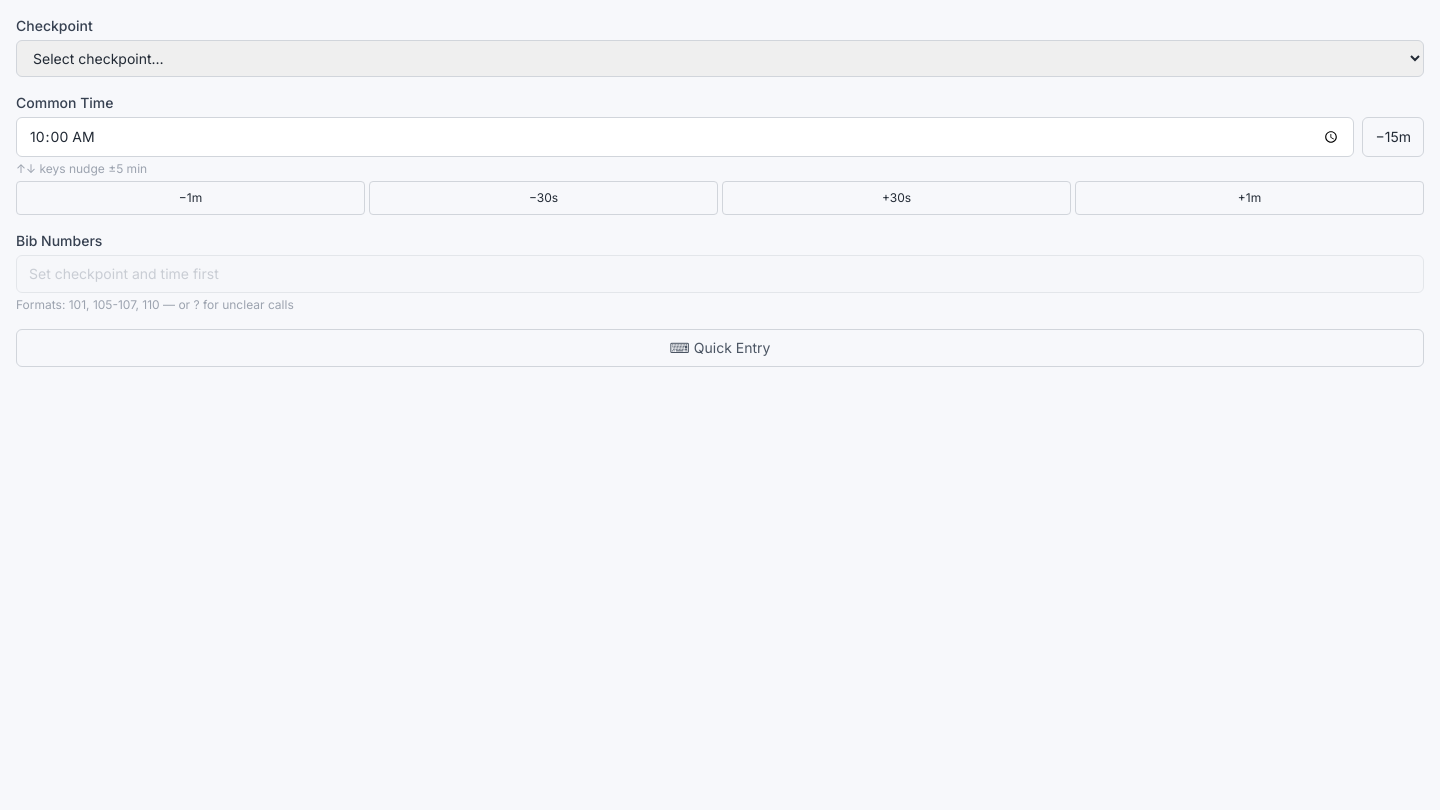
Test: InputSection — Quick Entry panel › textarea is disabled when not ready (no checkpoint)
Click the button "⌨ Quick Entry": (720, 348) [16,329,1424,367]
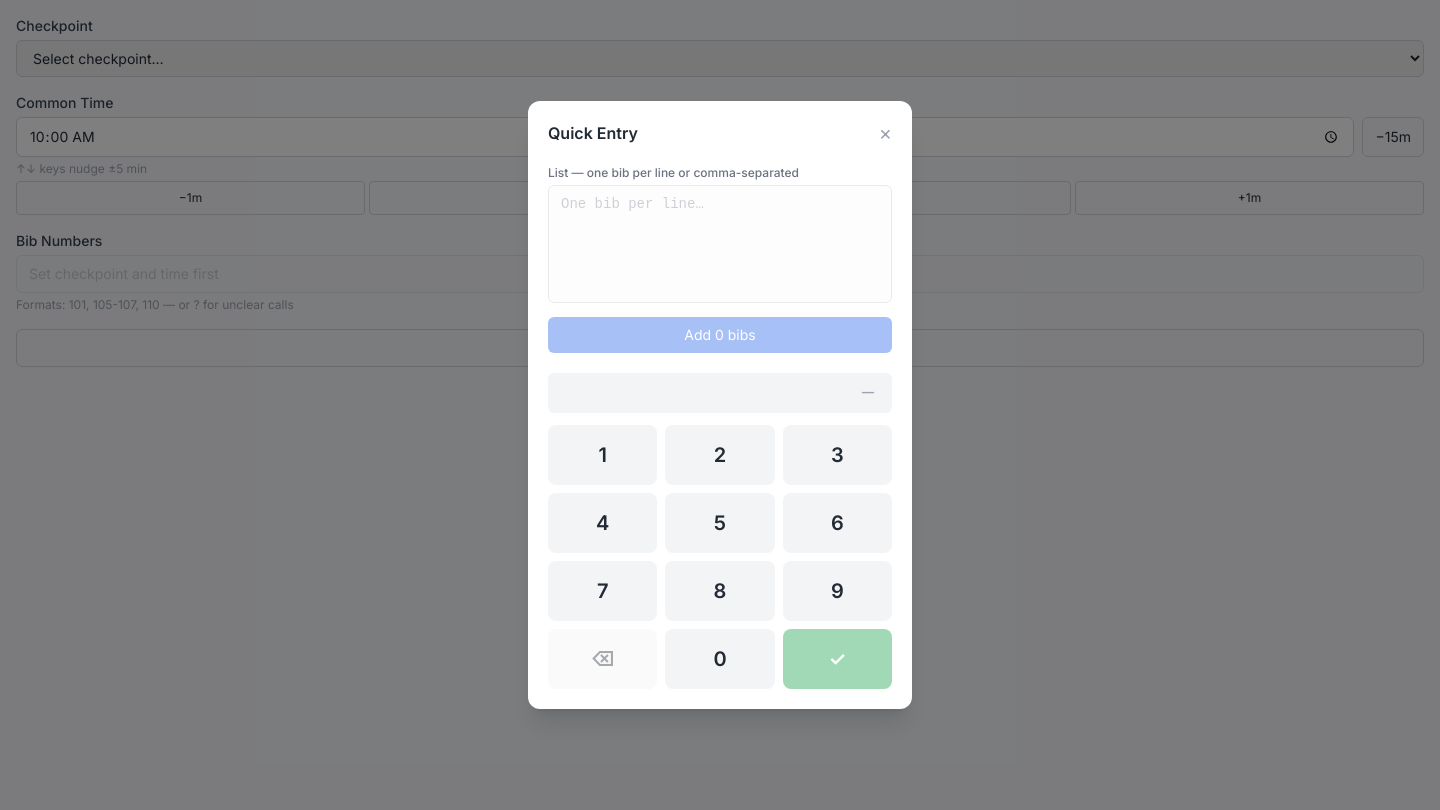
Now the text box with placeholder "One bib per line…" is disabled, box [548,185,892,303]
